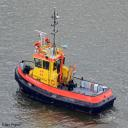tugboat: (15, 5, 118, 117)
